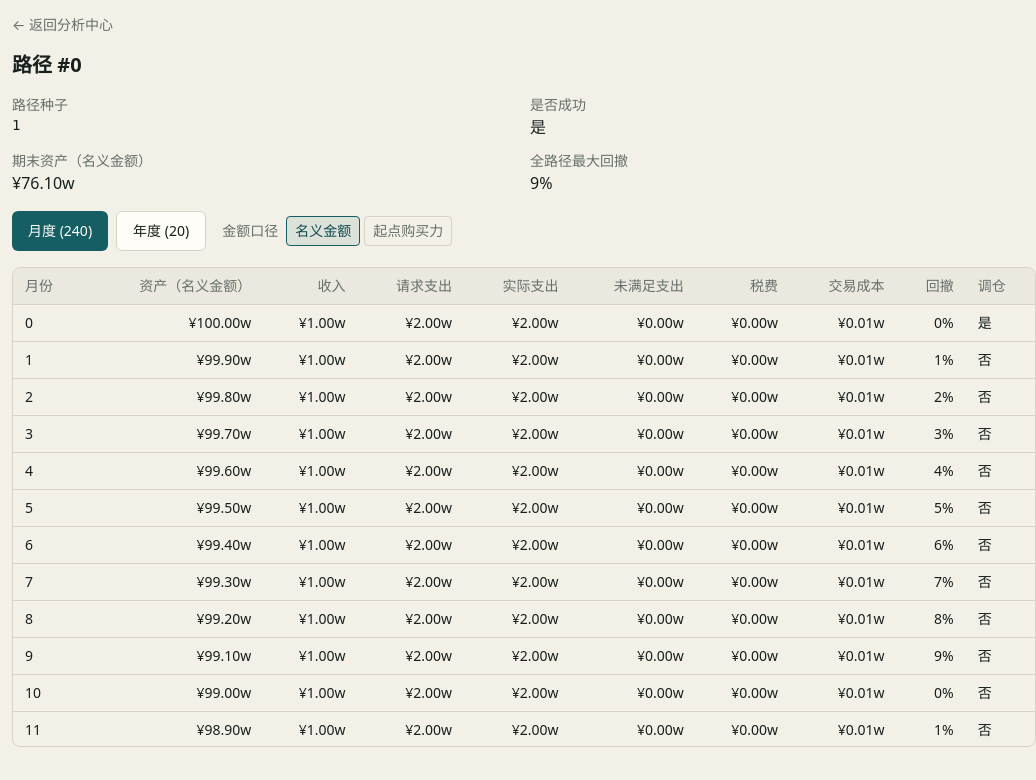
Test: PathDetailPage › toggles wealth columns between nominal and real purchasing power
Expected: the button "月度 (240)" is shown, [12,211,108,251]
Expected: the column heading "资产（名义金额）" is shown, [82,268,263,304]
Step 1. Click the button "起点购买力" → coordinates (408, 231), box [364,216,452,246]
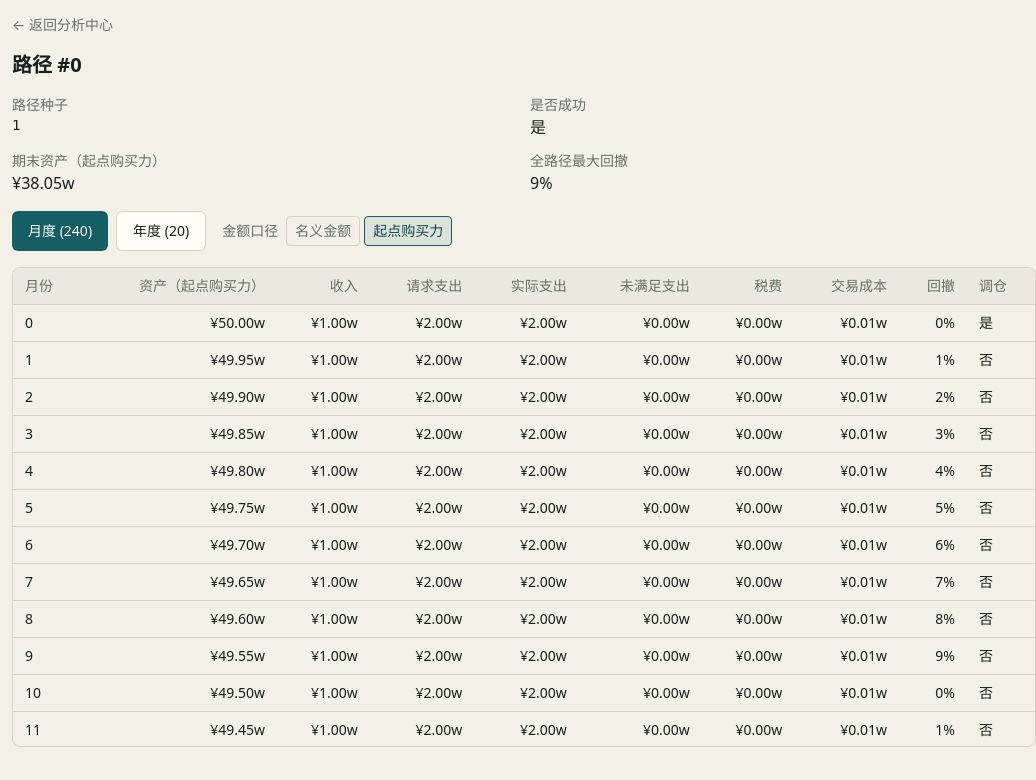
Expected: the column heading "资产（起点购买力）" is shown, [81,268,277,304]
Step 2. Click the button "年度 (20)" → coordinates (161, 231), box [116,211,206,251]
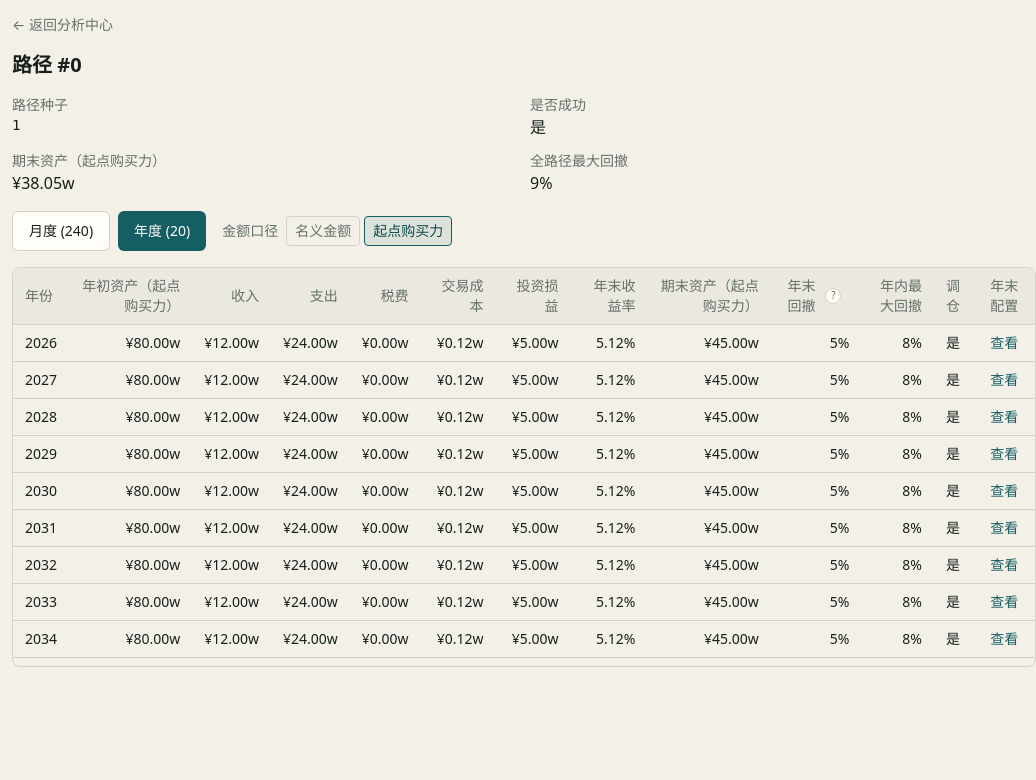
Expected: the column heading "年初资产（起点购买力）" is shown, [69,268,192,324]
Expected: the column heading "期末资产（起点购买力）" is shown, [648,268,771,324]
Expected: the text "¥45.00w" in the row of "2026" is shown, [704,333,759,352]
